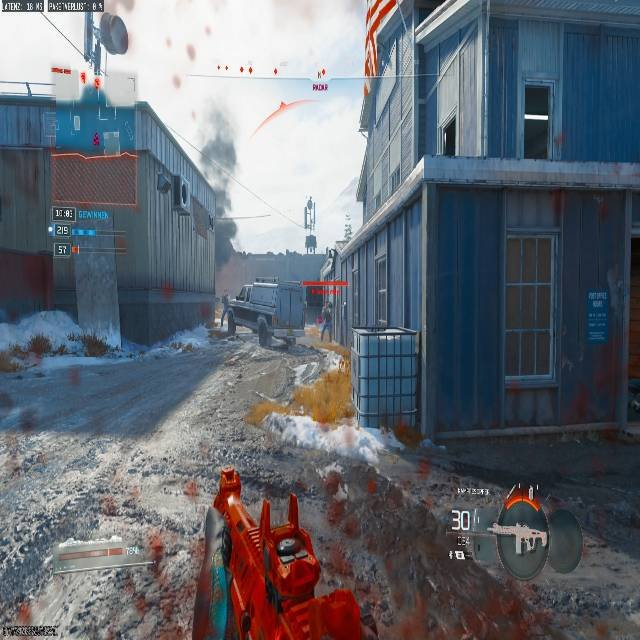player: (317, 301, 332, 341)
